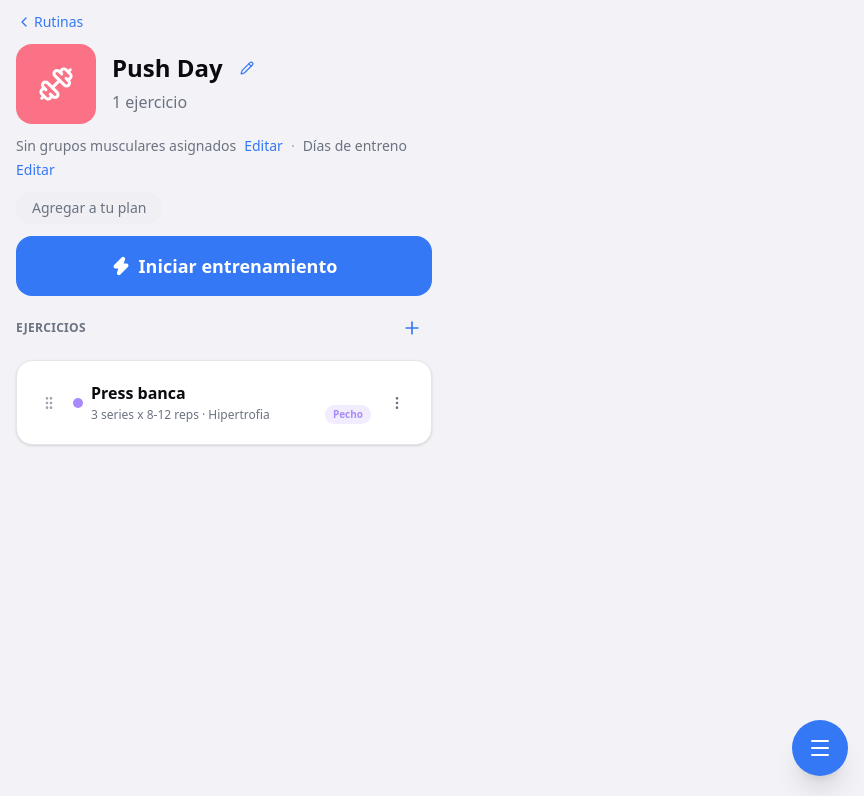
Scenario: RoutineDetailPage › edita un ejercicio y usa la sugerencia de rango de repeticiones
The image size is (864, 796).
Expected: the text "Press banca" is shown, [91, 382, 186, 404]
Click the button named "Más opciones". click: (397, 402)
box: [379, 384, 415, 420]
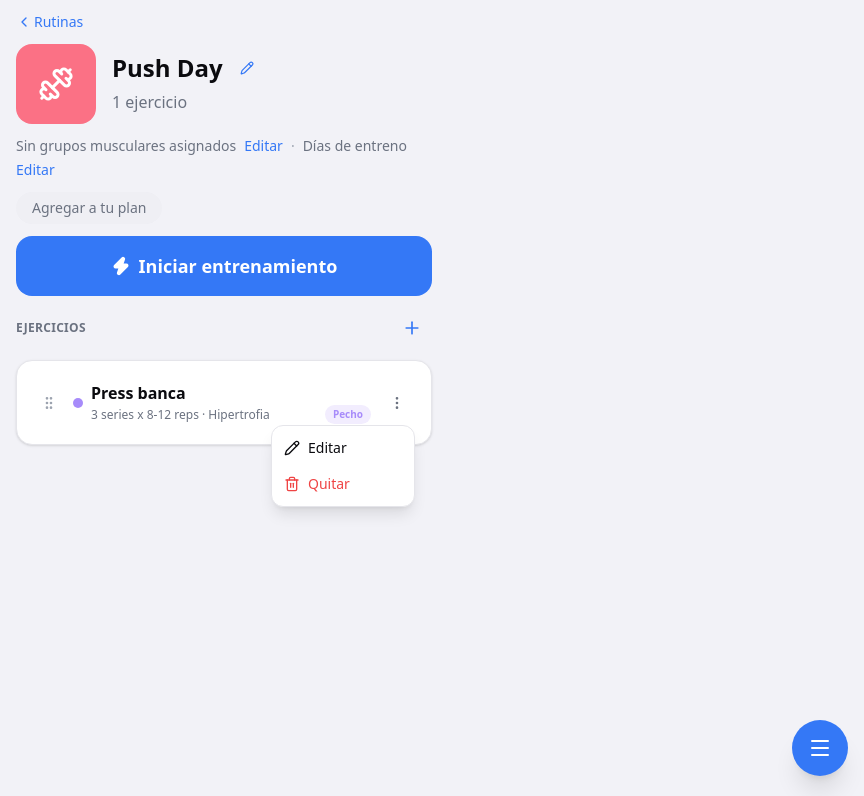
Click the menu item "Editar". click: (343, 448)
box: [272, 430, 414, 466]
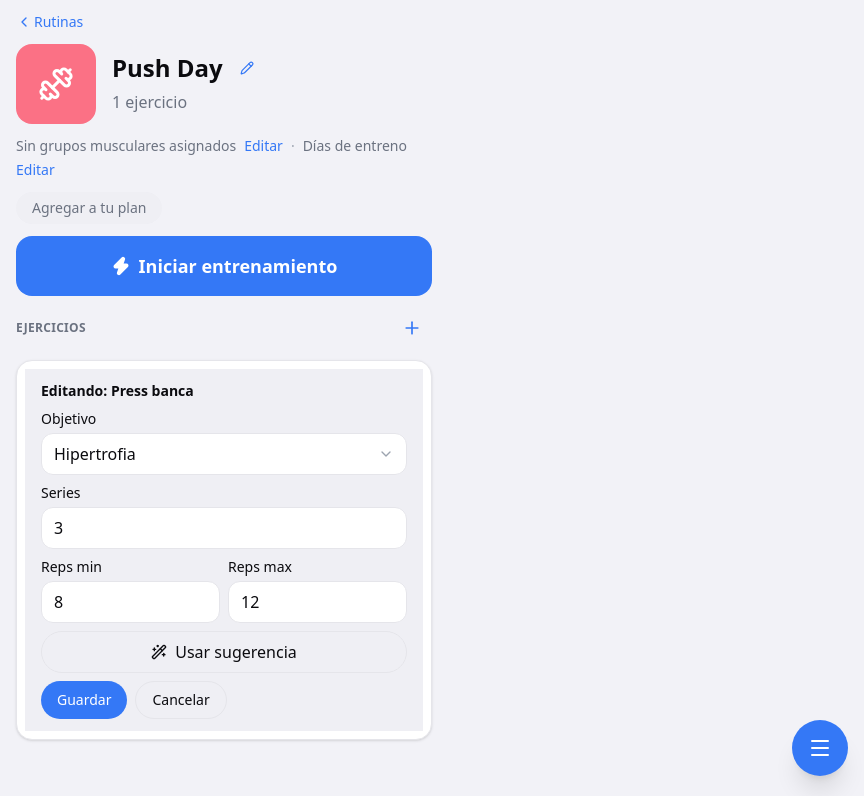
Click the button "Usar sugerencia". click: (224, 652)
box: [41, 631, 407, 673]
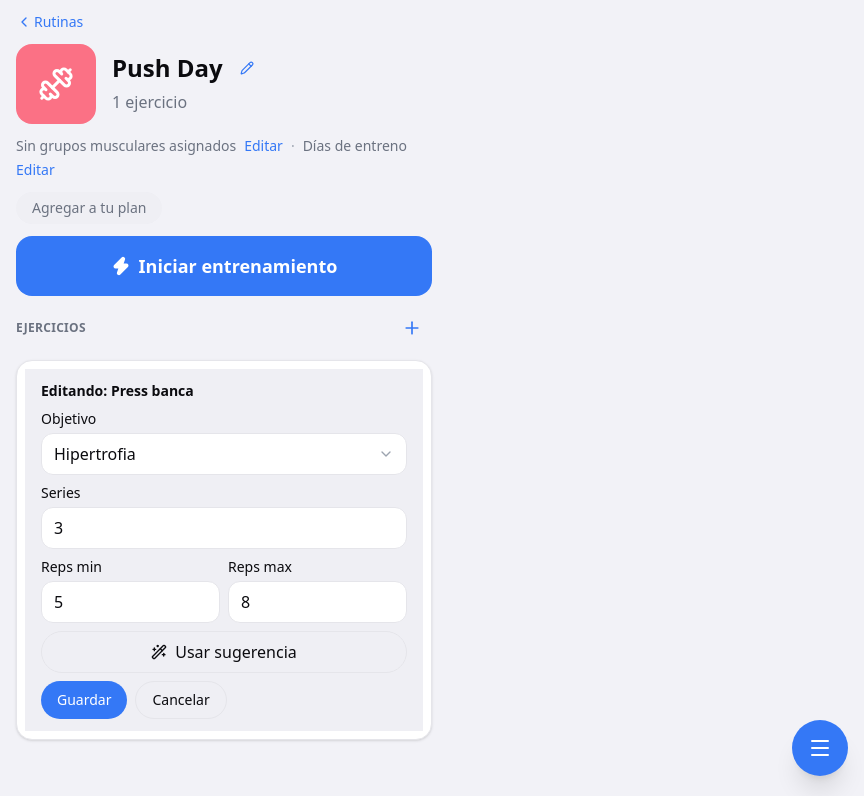
Now the number field labelled "Reps min" holds "5", box [41, 581, 220, 623]
Now the number field labelled "Reps max" holds "8", box [228, 581, 407, 623]
